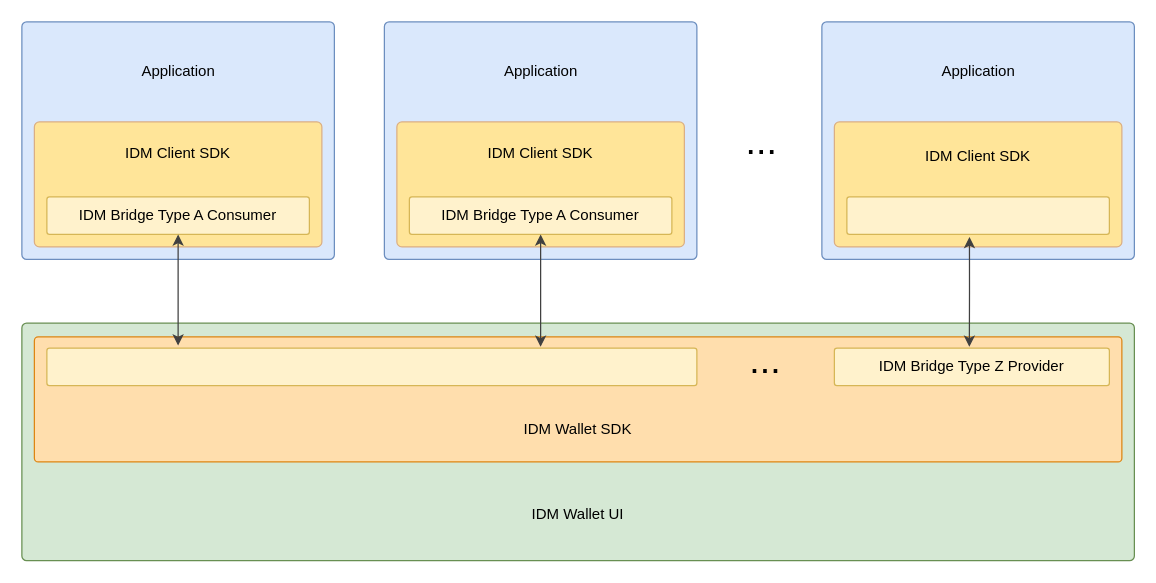
Some shapes in this 1156 by 583 pixel diagram are drawn without their labels. The shapes that lost their labels are listed below. From the top down, each one's box as (x1, y1, x2, y2) in pixels, then its label:
(846, 196, 1109, 234): IDM Bridge Type Z Consumer
(46, 347, 697, 386): IDM Bridge Type A Provider
